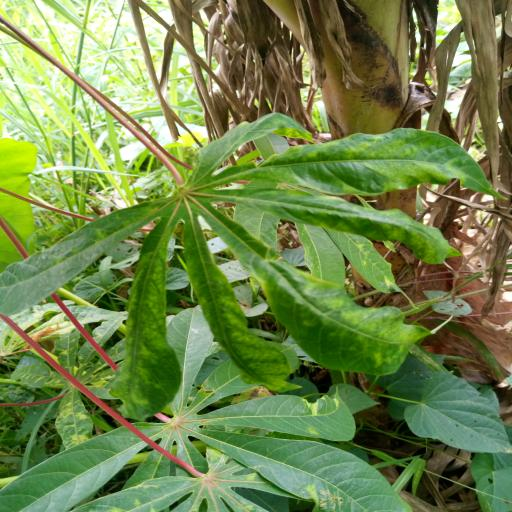Cassava_Mosaic: (0, 110, 501, 420)
